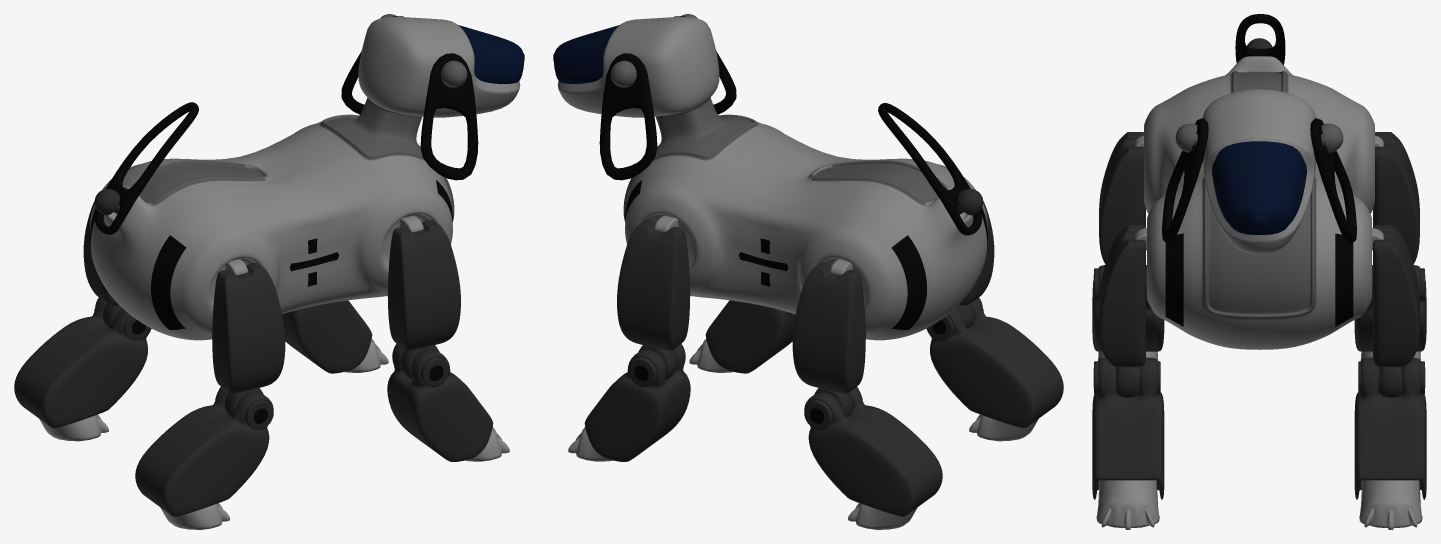
The model's file is robo pum.glb.
The picture shows the model from 3 angles, left to right: view 1: azimuth 30°, elevation 25°; view 2: azimuth 150°, elevation 25°; view 3: azimuth 270°, elevation 25°; orthographic projection. The views are drawn at different scales.
Parts seen in each view (by area): view 1: Box002, Box006, Box004, Box005, Box003, Plane002, Plane001, Object002, Sphere003, Sphere002, Sphere004; view 2: Box002, Box006, Box004, Box005, Box003, Plane002, Plane001, Object002, Sphere003, Sphere002, Sphere004; view 3: Box002, Box004, Box003, Box005, Object002, Sphere002, Plane002, Box006, Plane001, Sphere004.
Boxes of the visible parts, left/top/right/bottom form: Box002: left=90, top=17, right=520, bottom=340; Box006: left=14, top=298, right=273, bottom=516; Box004: left=282, top=300, right=493, bottom=461; Box005: left=83, top=201, right=285, bottom=430; Box003: left=387, top=220, right=460, bottom=387; Plane002: left=341, top=16, right=478, bottom=180; Plane001: left=95, top=102, right=198, bottom=234; Object002: left=458, top=25, right=524, bottom=83; Sphere003: left=39, top=414, right=229, bottom=529; Sphere002: left=344, top=339, right=509, bottom=461; Sphere004: left=380, top=14, right=467, bottom=87; Box002: left=557, top=17, right=987, bottom=340; Box006: left=804, top=298, right=1063, bottom=516; Box004: left=584, top=300, right=795, bottom=461; Box005: left=792, top=201, right=994, bottom=430; Box003: left=617, top=220, right=690, bottom=387; Plane002: left=599, top=16, right=736, bottom=180; Plane001: left=878, top=103, right=981, bottom=235; Object002: left=553, top=25, right=619, bottom=83; Sphere003: left=848, top=414, right=1038, bottom=529; Sphere002: left=568, top=339, right=733, bottom=461; Sphere004: left=610, top=14, right=697, bottom=87; Box002: left=1144, top=56, right=1374, bottom=349; Box004: left=1092, top=357, right=1426, bottom=499; Box003: left=1093, top=224, right=1425, bottom=397; Box005: left=1093, top=132, right=1425, bottom=301; Object002: left=1212, top=141, right=1306, bottom=234; Sphere002: left=1096, top=480, right=1422, bottom=529; Plane002: left=1162, top=118, right=1356, bottom=243; Box006: left=1092, top=265, right=1426, bottom=351; Plane001: left=1235, top=14, right=1285, bottom=64; Sphere004: left=1175, top=123, right=1343, bottom=152.
Size of the model in its own units: 2.7 by 2.29 by 1.66.
